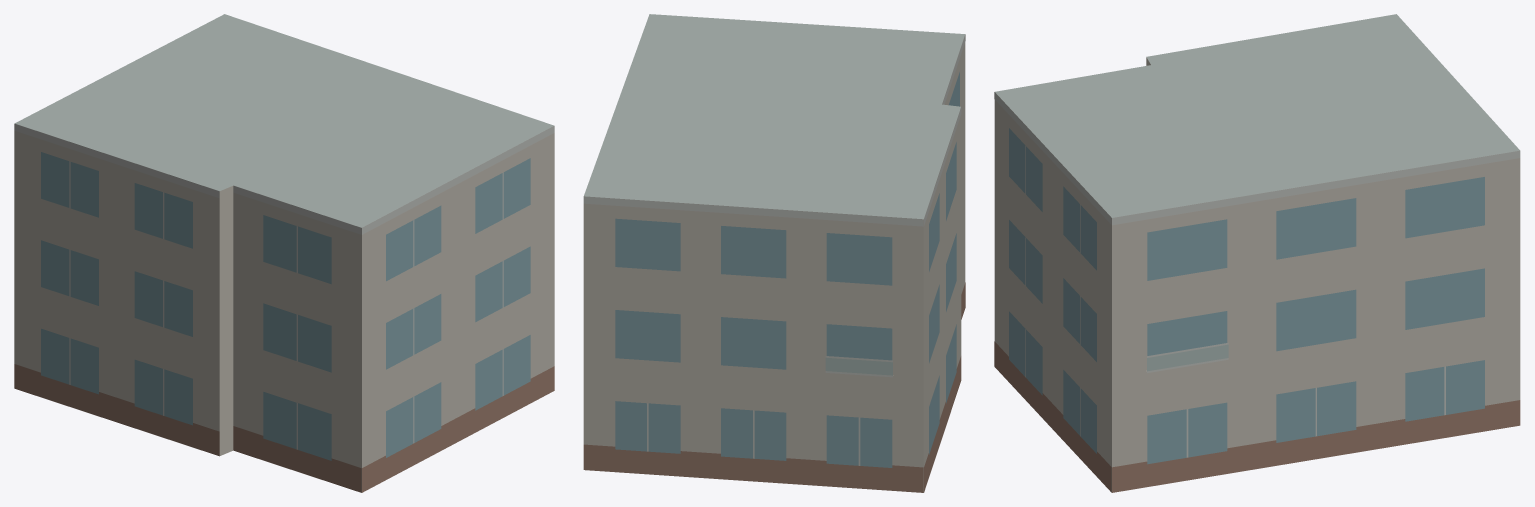
Rendered from survey-upis-32751715.glb.
3 renders of one model, left to right at view 1: azimuth 30°, elevation 25°; view 2: azimuth 150°, elevation 25°; view 3: azimuth 270°, elevation 25°, orthographic. The views are drawn at different scales.
Visible parts, largest first — view 1: survey-upis-32751715.tmp; view 2: survey-upis-32751715.tmp; view 3: survey-upis-32751715.tmp.
Part boxes in pixels (x1=…): survey-upis-32751715.tmp: x1=14, y1=14, x2=554, y2=492; survey-upis-32751715.tmp: x1=583, y1=14, x2=965, y2=492; survey-upis-32751715.tmp: x1=994, y1=14, x2=1520, y2=492.
Bounding box in the file's own units: 14.49 × 9.1 × 15.79.
